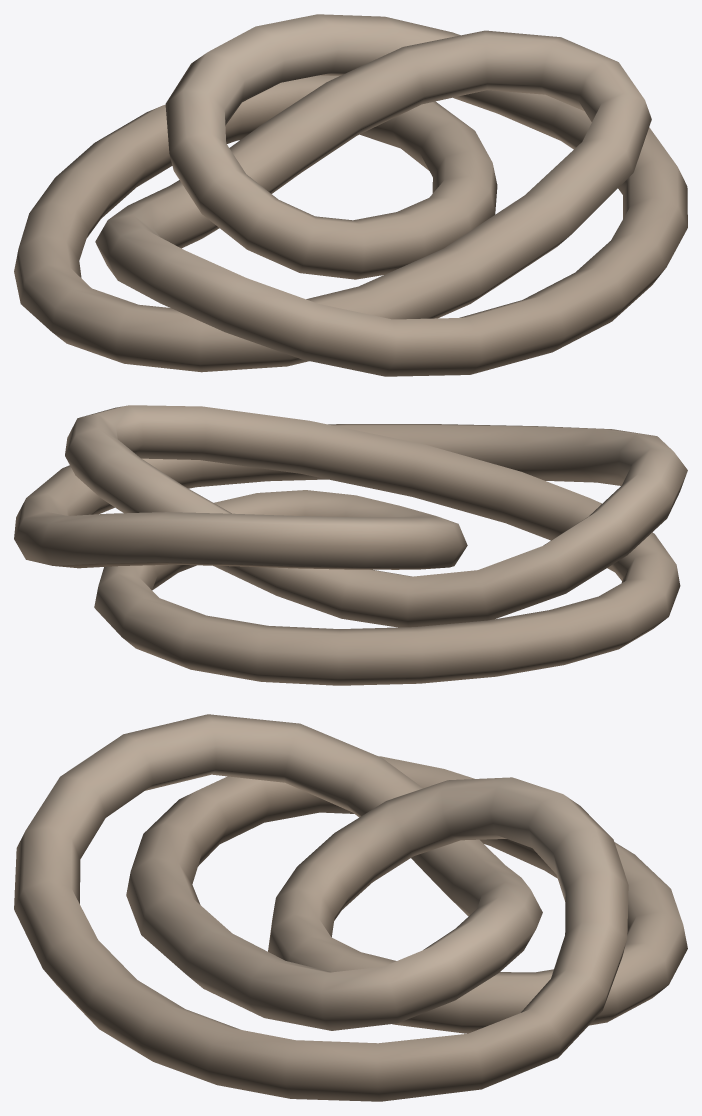
File: rope_bundle_b.glb
The picture shows the model from 3 angles, top to bottom: view 1: azimuth 30°, elevation 25°; view 2: azimuth 150°, elevation 25°; view 3: azimuth 270°, elevation 25°; orthographic projection. The views are drawn at different scales.
Parts seen in each view (by area): view 1: rope_bundle_B; view 2: rope_bundle_B; view 3: rope_bundle_B.
Part boxes in pixels (bbox=[...]): rope_bundle_B: bbox=[14, 14, 687, 376]; rope_bundle_B: bbox=[14, 405, 687, 685]; rope_bundle_B: bbox=[14, 714, 687, 1101].
Bounding box in the file's own units: 0.6347 × 0.1398 × 0.5724.
1 material, 1 textured.
